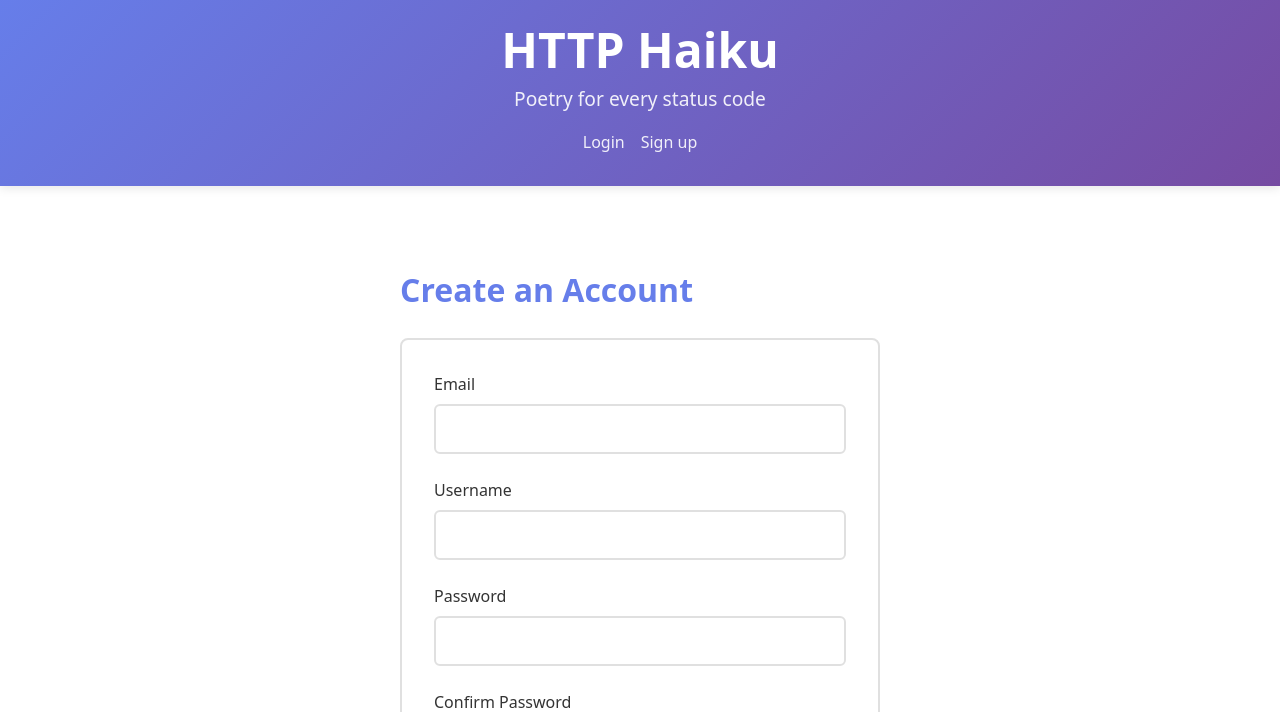
it: SignupPage › shows 'Creating account...' while pending
In the field labelled "Email": (640, 429) left=434, top=404, right=846, bottom=454, type "new@example.com"
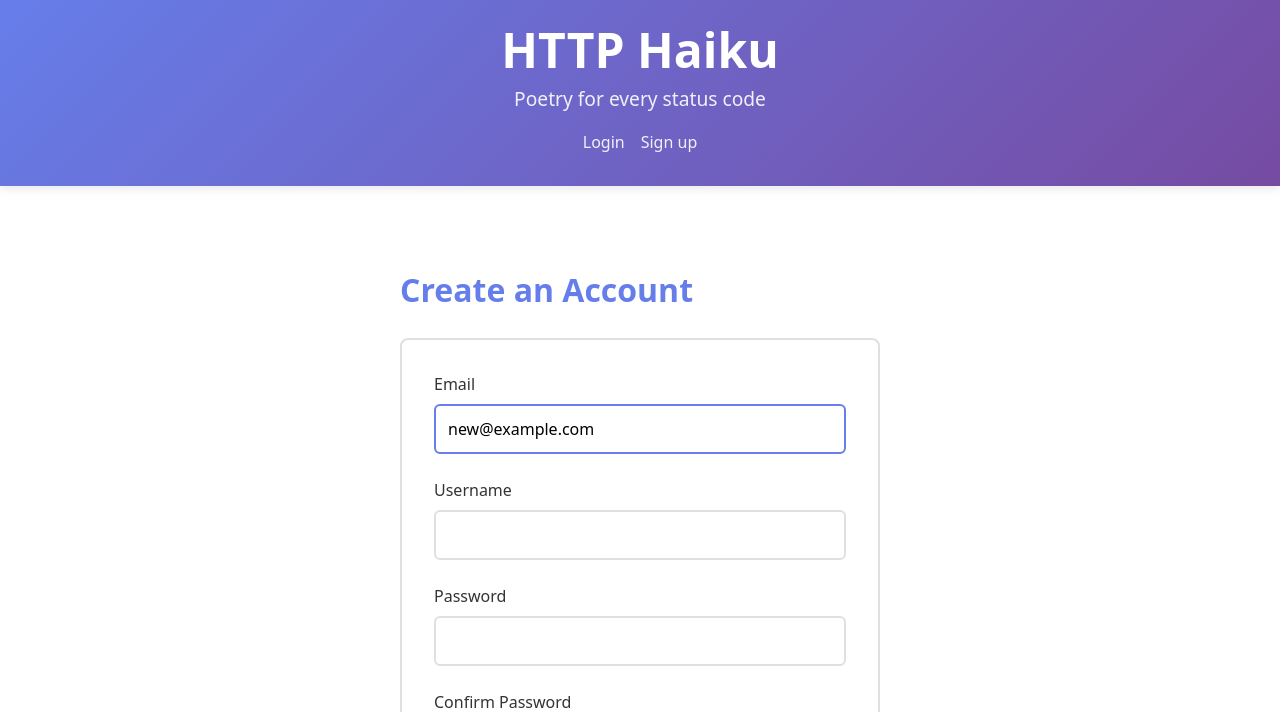
In the field labelled "Username": (640, 535) left=434, top=510, right=846, bottom=560, type "newuser"
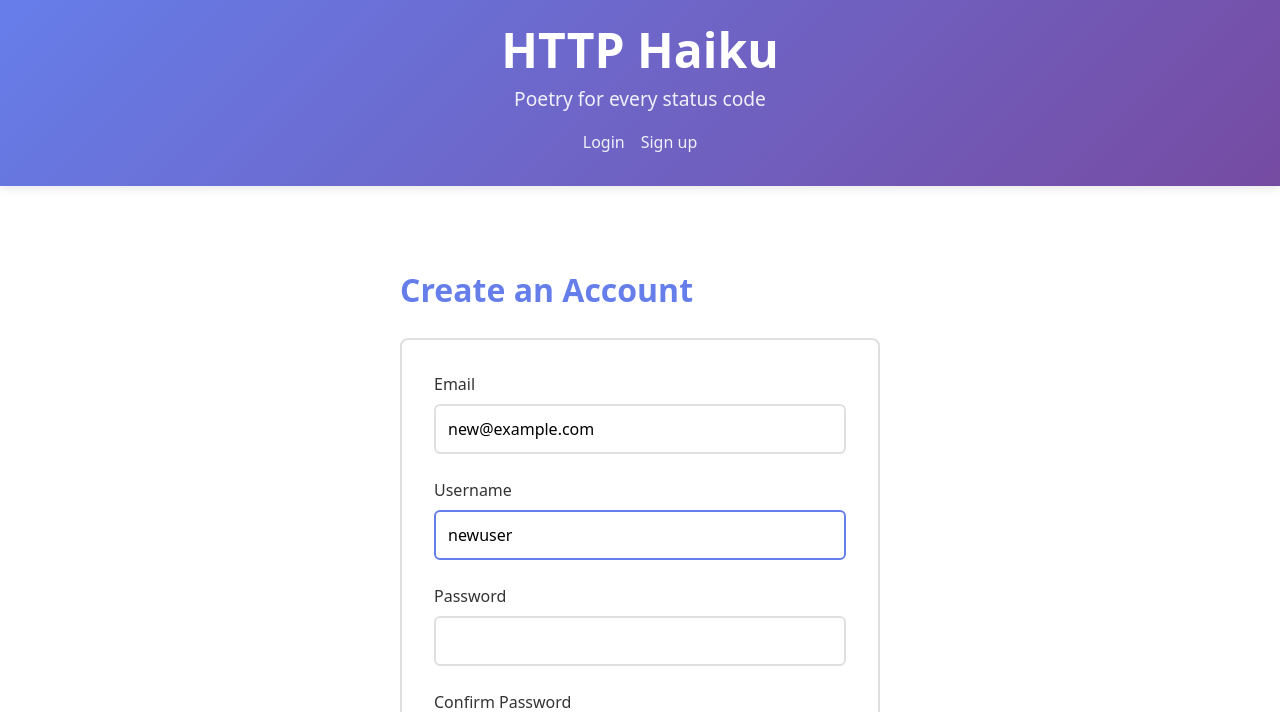
In the password field labelled "Password": (640, 641) left=434, top=616, right=846, bottom=666, type "password123"
(page scrolled)
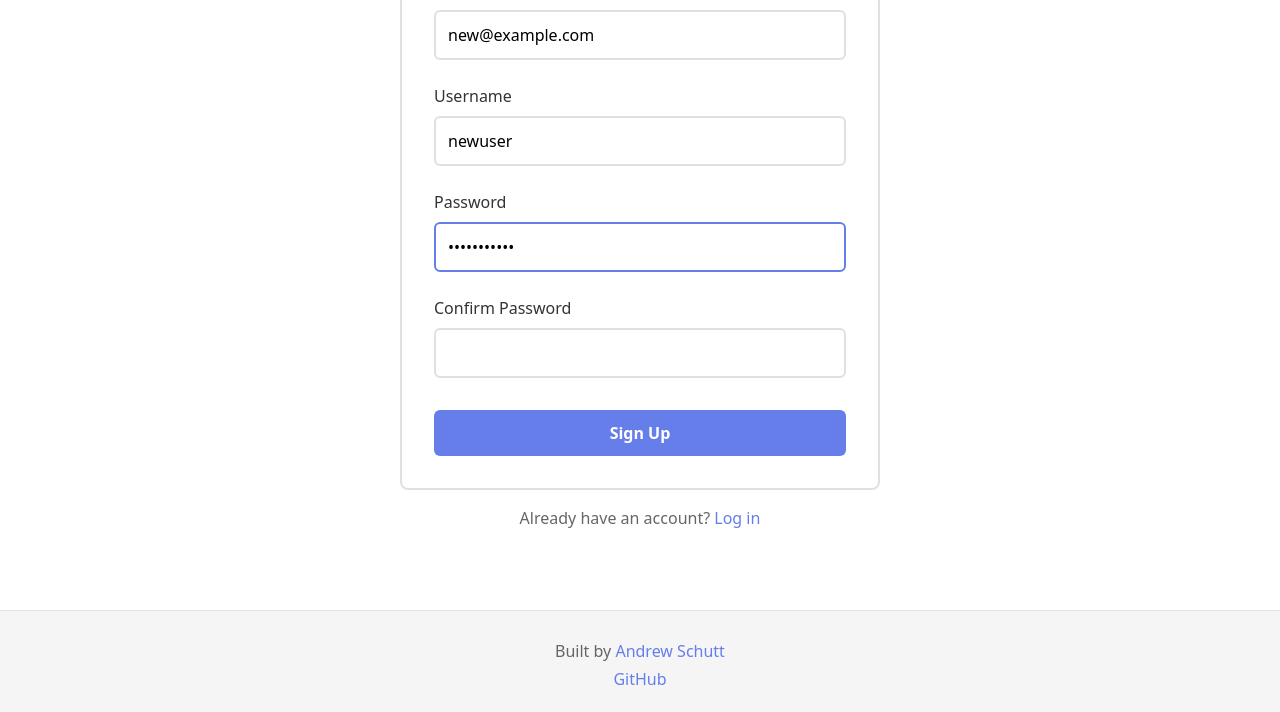
In the password field labelled "Confirm Password": (640, 353) left=434, top=328, right=846, bottom=378, type "password123"
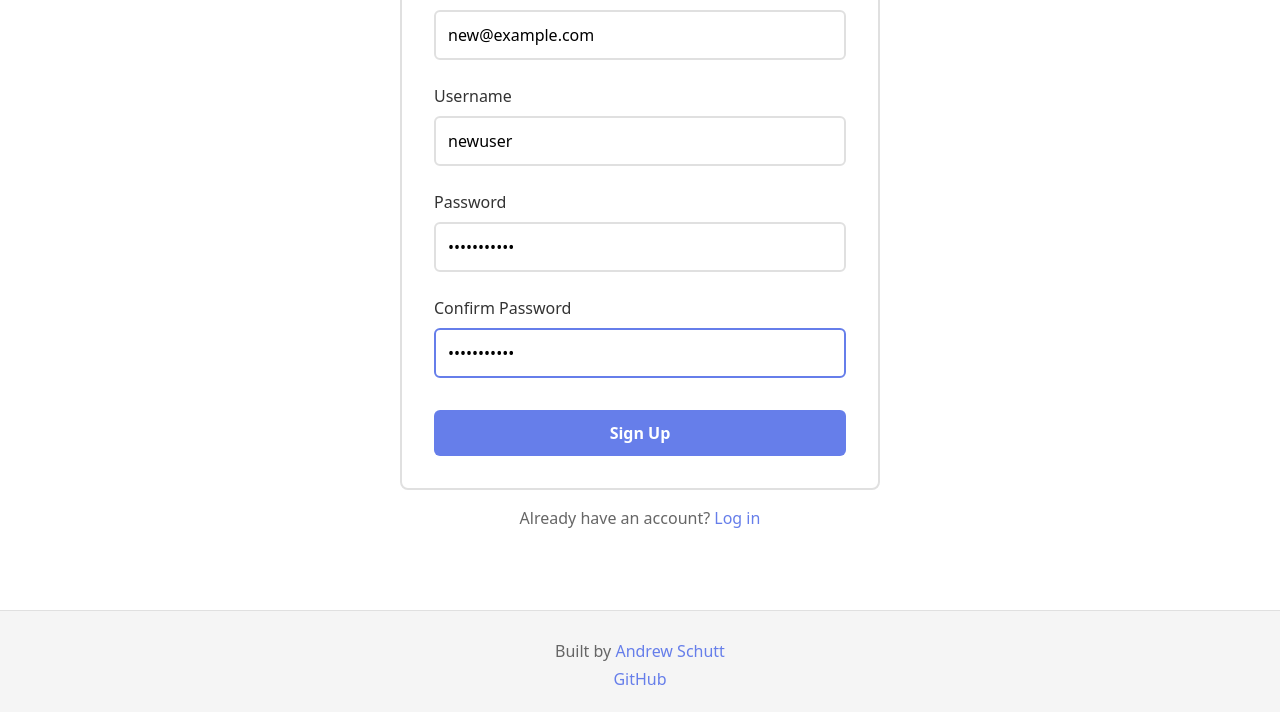
Click the button "Sign Up": (640, 433) left=434, top=410, right=846, bottom=456
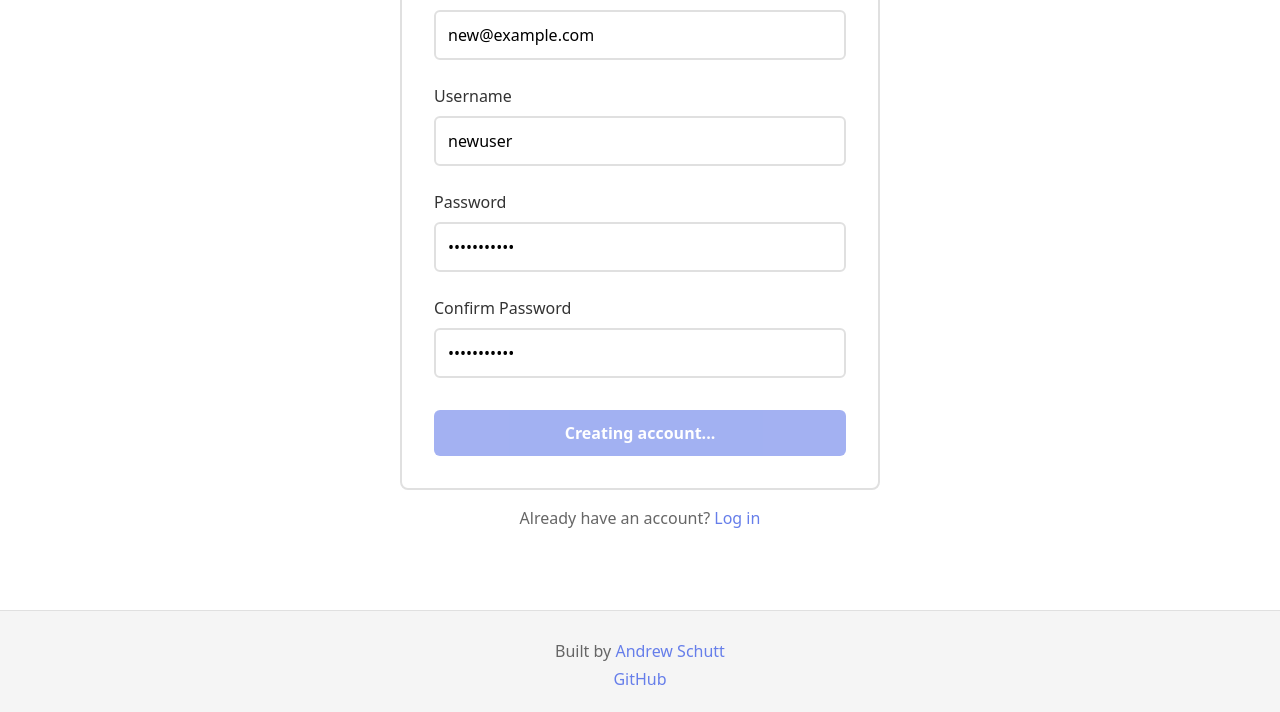
Check: the button "Creating account..." is disabled, box left=434, top=410, right=846, bottom=456
